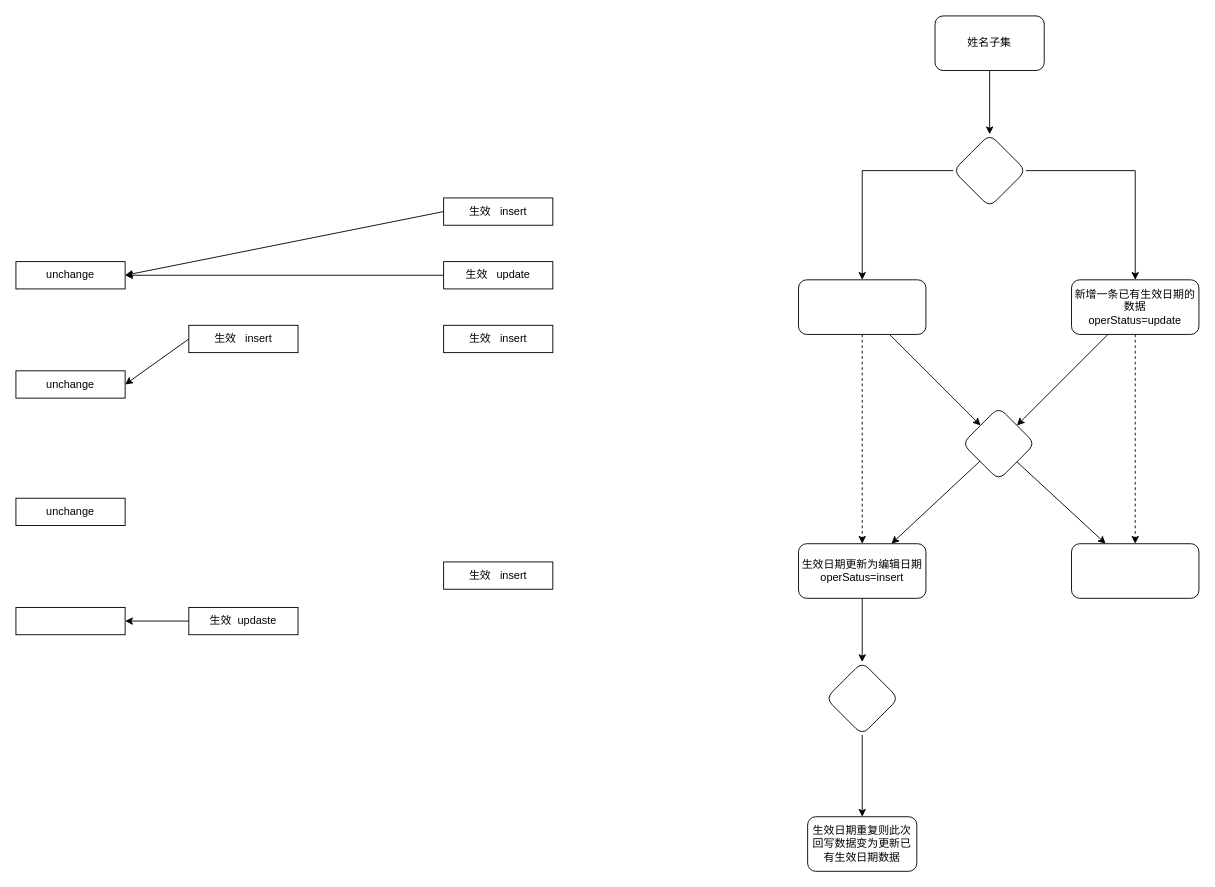
Some shapes in this 1215 by 887 pixel diagram are drawn without their labels. The box of each missing label's shape, as (x1, y1, x2, y2) in pixels:
update: (15, 607, 125, 635)
员工生效日期是否重复: (825, 661, 899, 735)
新增/更新: (952, 133, 1026, 207)
新增一条当天生效日期的数据 operSatus=insert: (798, 279, 926, 334)
未提交-编辑: (961, 406, 1035, 480)
生效日期不变operStatus=update: (1071, 543, 1199, 598)
